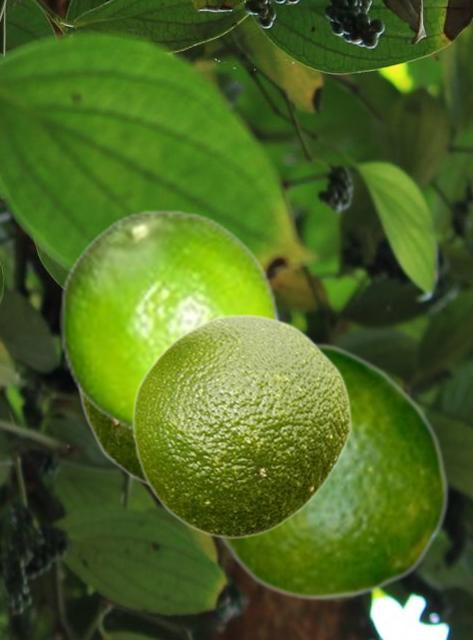calamansi: (216, 341, 449, 600), (59, 208, 279, 435), (131, 313, 351, 539), (77, 390, 146, 486)
